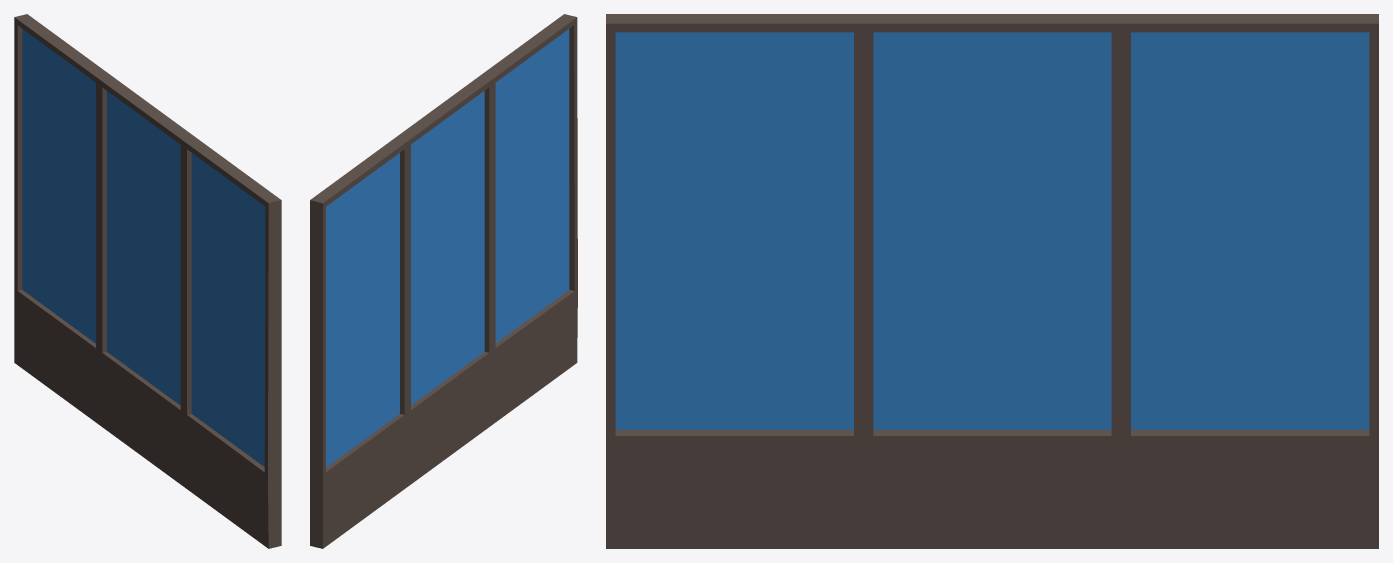
The model's file is Wall_FullWindow.FBX.
3 renders of one model, left to right at view 1: azimuth 30°, elevation 25°; view 2: azimuth 150°, elevation 25°; view 3: azimuth 270°, elevation 25°, orthographic. The views are drawn at different scales.
Parts seen in each view (by area): view 1: Wall_FullWindow; view 2: Wall_FullWindow; view 3: Wall_FullWindow.
Part boxes in pixels (x1,y1,x2,y2): Wall_FullWindow: (14, 14, 281, 548); Wall_FullWindow: (310, 14, 577, 548); Wall_FullWindow: (606, 14, 1378, 548).
Size of the model in its own units: 0.1242 by 3 by 4.
